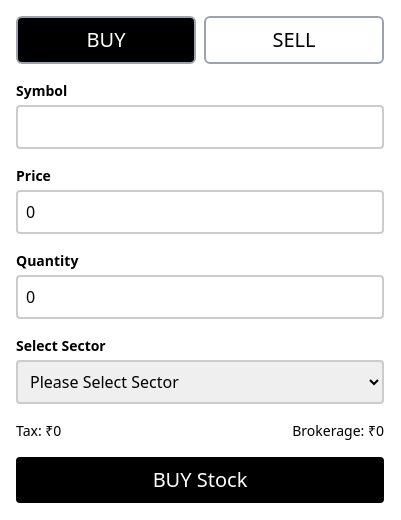
BuySellForm › shows sector selection only in BUY mode
Expected: the dropdown labelled "Select Sector" is shown, [16,360,384,404]
Click the button "SELL": (294, 40) [204,16,384,64]
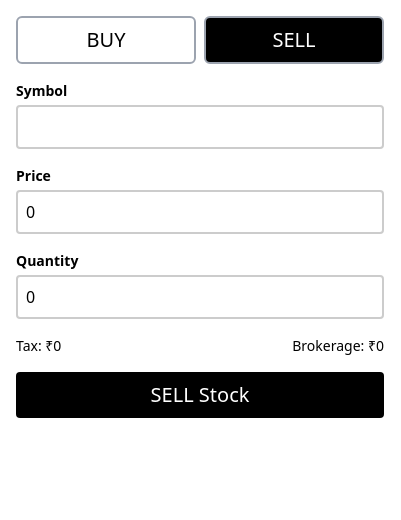
Now the label labelled "Select Sector" is gone
